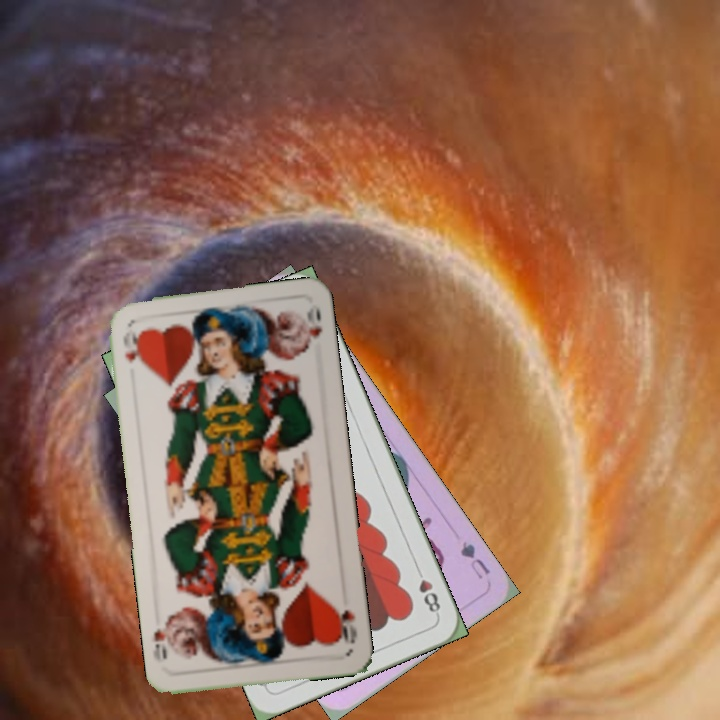GU: (456, 537, 493, 583)
H8: (412, 563, 443, 619)
HO: (332, 601, 360, 646), (119, 325, 144, 368)
